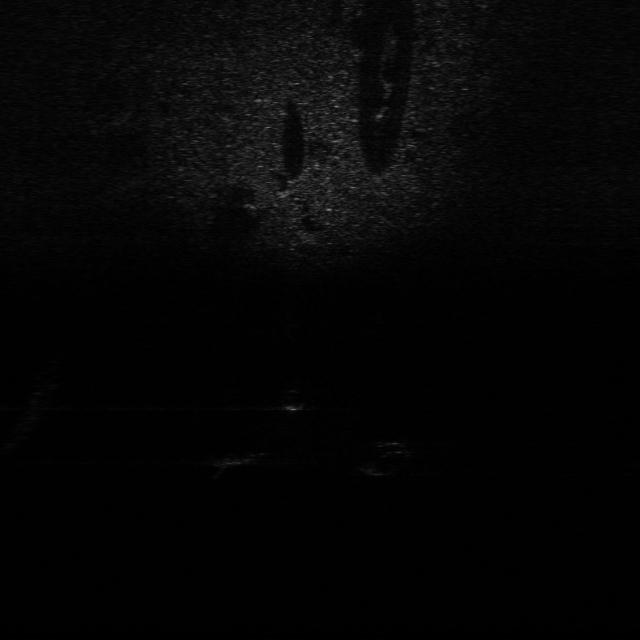ball: (277, 386, 318, 414)
square cage: (224, 446, 272, 472)
tyre: (354, 440, 416, 476)
